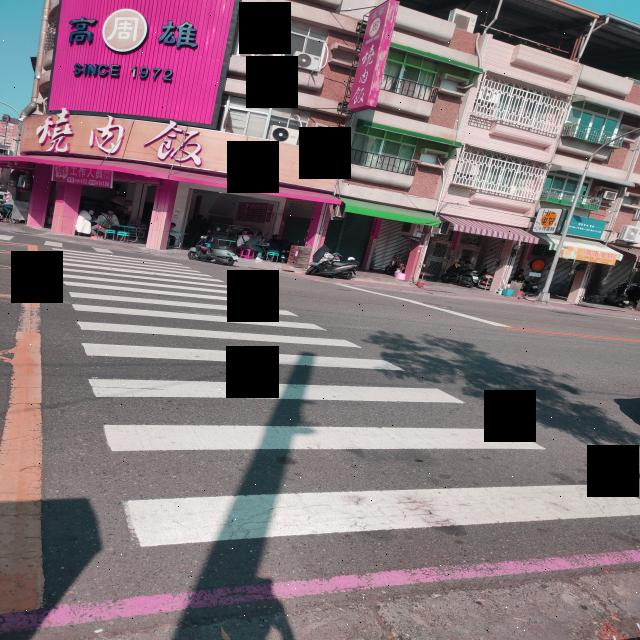zebra_crossing: (551, 382, 640, 640)
